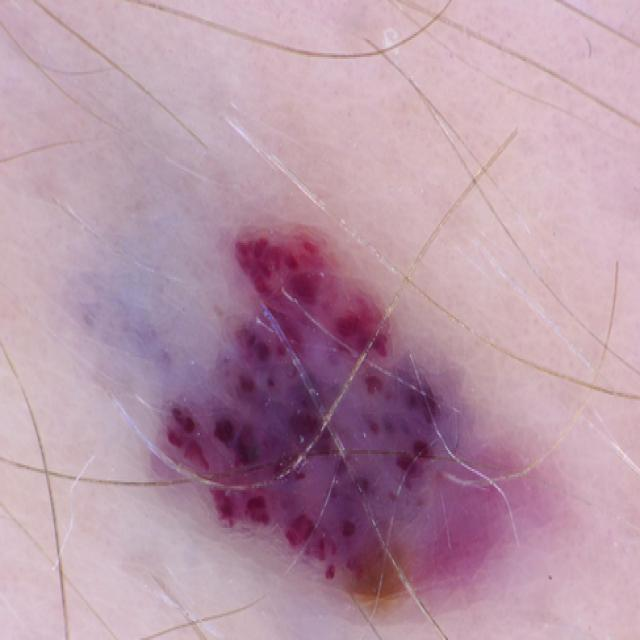Vascular Lesions: (119, 212, 541, 640)
